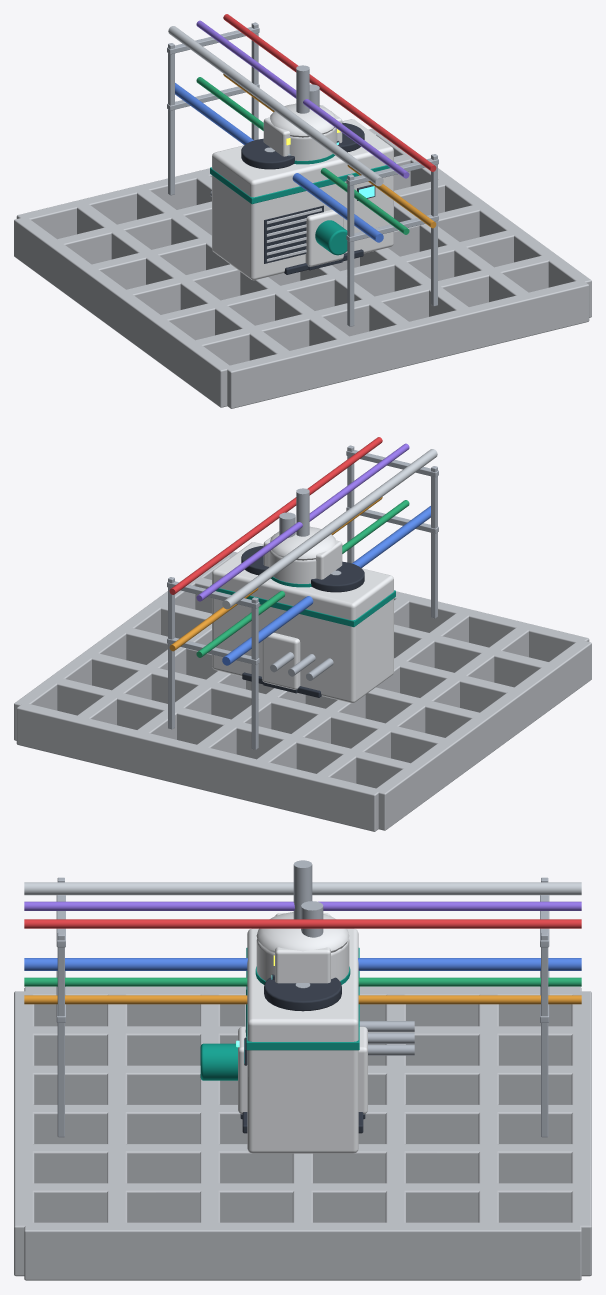
The model's file is subfab.glb.
The picture shows the model from 3 angles, top to bottom: view 1: azimuth 30°, elevation 25°; view 2: azimuth 150°, elevation 25°; view 3: azimuth 270°, elevation 25°; orthographic projection. The views are drawn at different scales.
Visible parts, largest first — view 1: slab_waffle_mesh, chiller_a_mesh, piperack_a_mesh, scrubber_a_mesh, pump_b_mesh, gascab_a_mesh; view 2: slab_waffle_mesh, chiller_a_mesh, piperack_a_mesh, scrubber_a_mesh, pump_b_mesh, gascab_a_mesh; view 3: slab_waffle_mesh, piperack_a_mesh, chiller_a_mesh, scrubber_a_mesh, gascab_a_mesh, pump_b_mesh, pump_a_mesh.
Part boxes in pixels (left/top/right/bottom): slab_waffle_mesh: left=14, top=128, right=591, bottom=408; chiller_a_mesh: left=210, top=119, right=394, bottom=280; piperack_a_mesh: left=167, top=14, right=438, bottom=326; scrubber_a_mesh: left=270, top=65, right=363, bottom=274; pump_b_mesh: left=305, top=209, right=347, bottom=270; gascab_a_mesh: left=263, top=84, right=342, bottom=156; slab_waffle_mesh: left=14, top=551, right=591, bottom=831; chiller_a_mesh: left=211, top=542, right=395, bottom=703; piperack_a_mesh: left=167, top=437, right=438, bottom=749; scrubber_a_mesh: left=242, top=488, right=335, bottom=697; pump_b_mesh: left=262, top=632, right=300, bottom=693; gascab_a_mesh: left=263, top=512, right=342, bottom=579; slab_waffle_mesh: left=14, top=987, right=591, bottom=1280; piperack_a_mesh: left=24, top=877, right=581, bottom=1137; chiller_a_mesh: left=244, top=928, right=414, bottom=1153; scrubber_a_mesh: left=242, top=860, right=363, bottom=1133; gascab_a_mesh: left=271, top=901, right=330, bottom=983; pump_b_mesh: left=200, top=1026, right=367, bottom=1119; pump_a_mesh: left=222, top=1043, right=237, bottom=1080.
Bounding box in the file's own units: 6.22 × 3.5 × 6.22.
